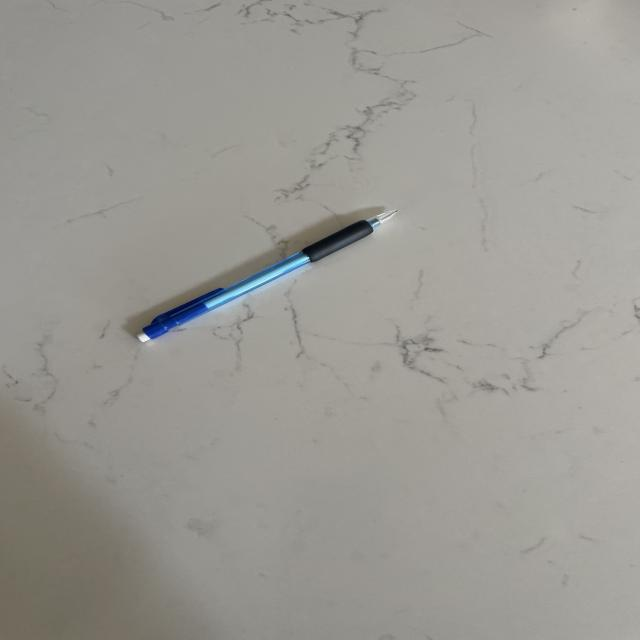mechanical-pencils: (122, 200, 408, 356)
